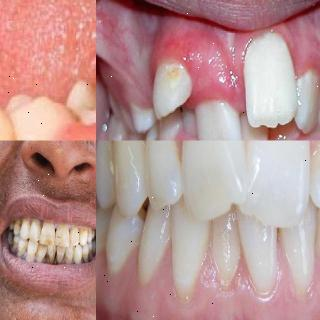Gum Swelling: (142, 35, 226, 114)
calculus: (48, 247, 58, 267), (55, 248, 66, 266)
cavities: (160, 53, 190, 89)
maligned: (178, 140, 252, 217), (243, 36, 304, 124), (151, 53, 203, 125), (206, 206, 246, 288), (192, 91, 240, 140)
stains: (37, 241, 48, 264), (64, 248, 74, 266), (44, 232, 54, 249), (14, 218, 24, 232), (56, 234, 66, 246), (81, 251, 90, 263), (31, 216, 39, 228), (29, 249, 38, 259), (86, 246, 95, 256), (10, 241, 19, 250), (22, 214, 28, 226), (70, 223, 80, 229), (10, 219, 16, 227), (82, 226, 88, 232)
